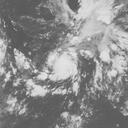cyclone: (43, 47, 80, 82)
